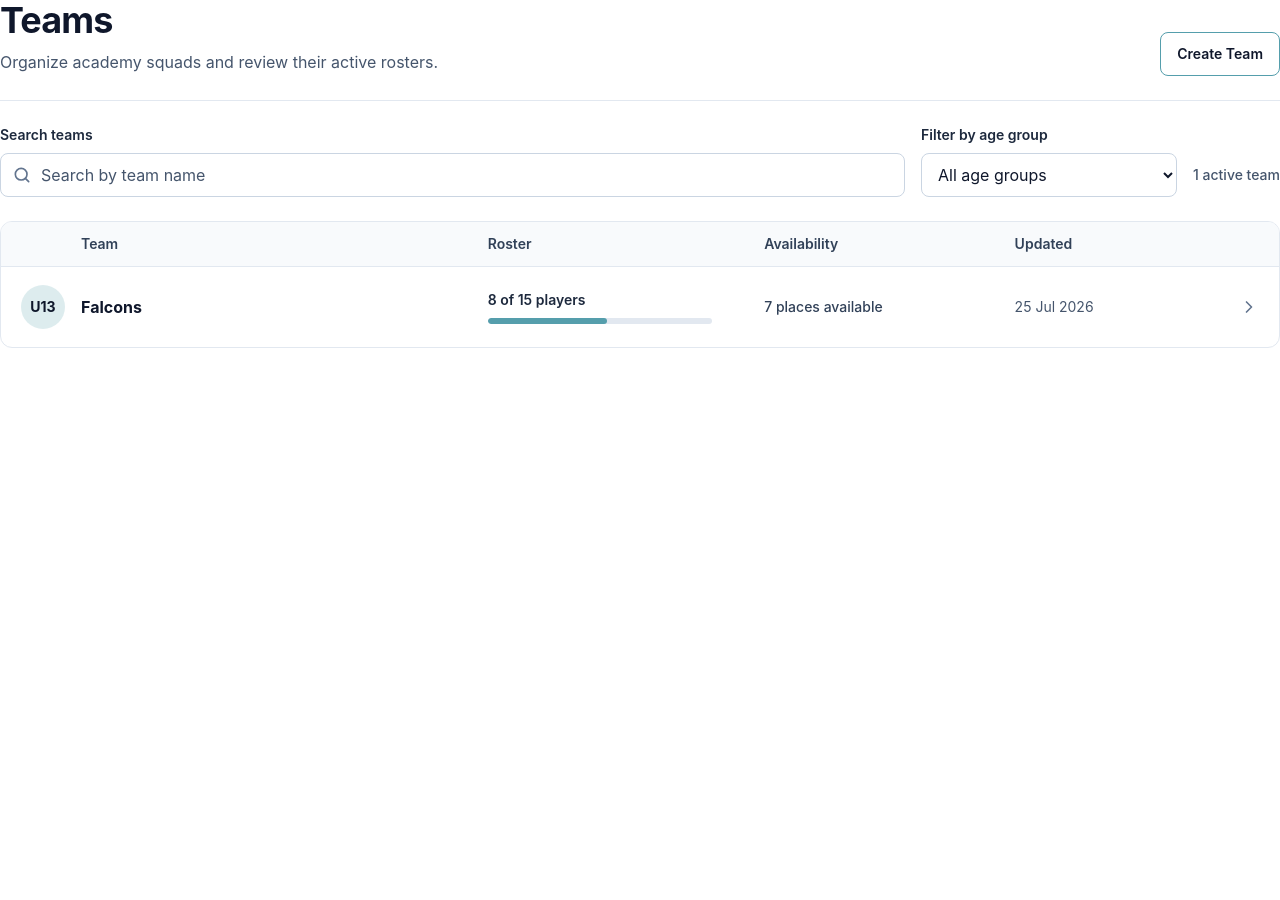
it: TeamsPage › replaces team details with a prefilled edit form
Click the button with aria-label "View Falcons".
click(43, 307)  # box [1,267,1279,347]
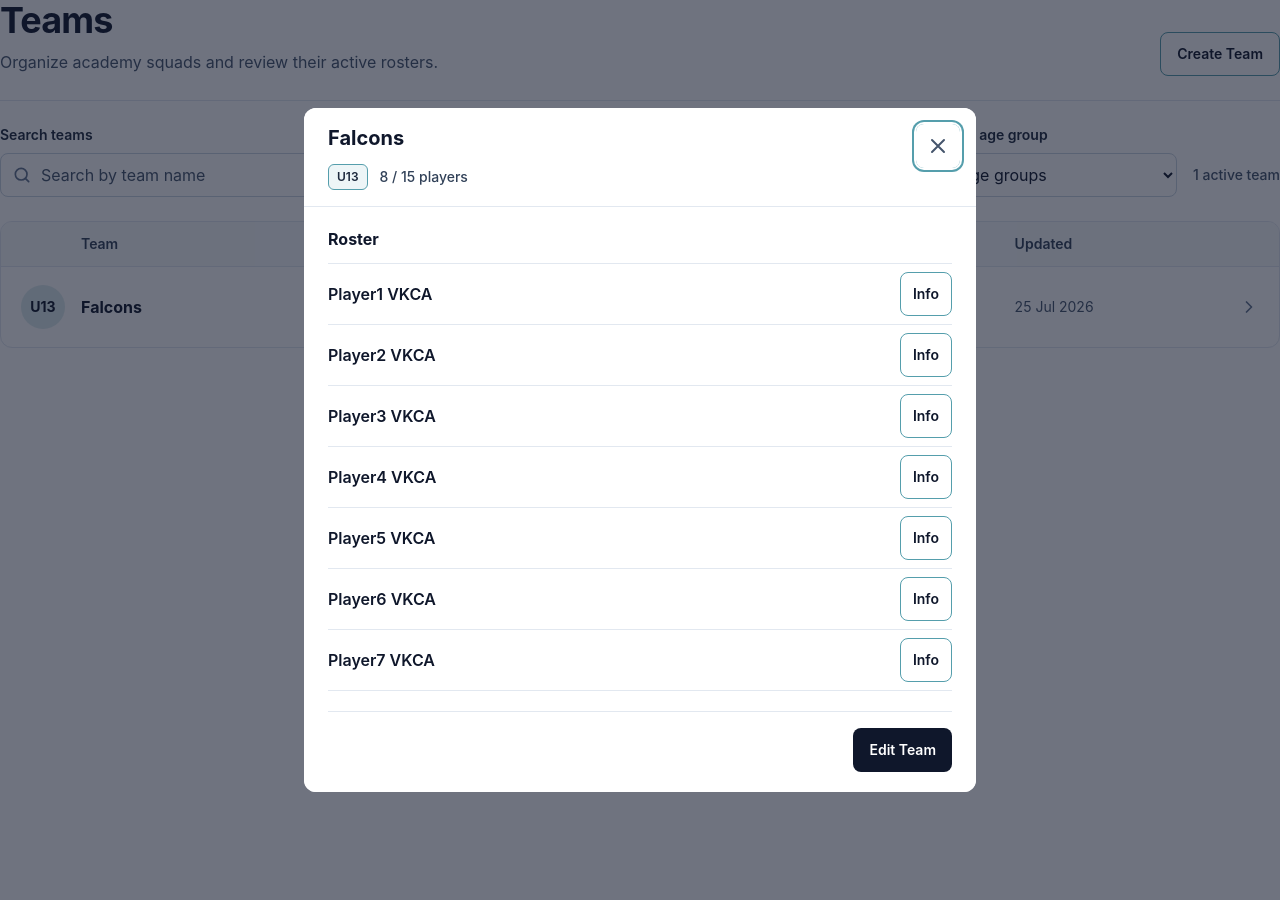
Click the button "Edit Team".
click(903, 750)  # box [853,728,952,772]
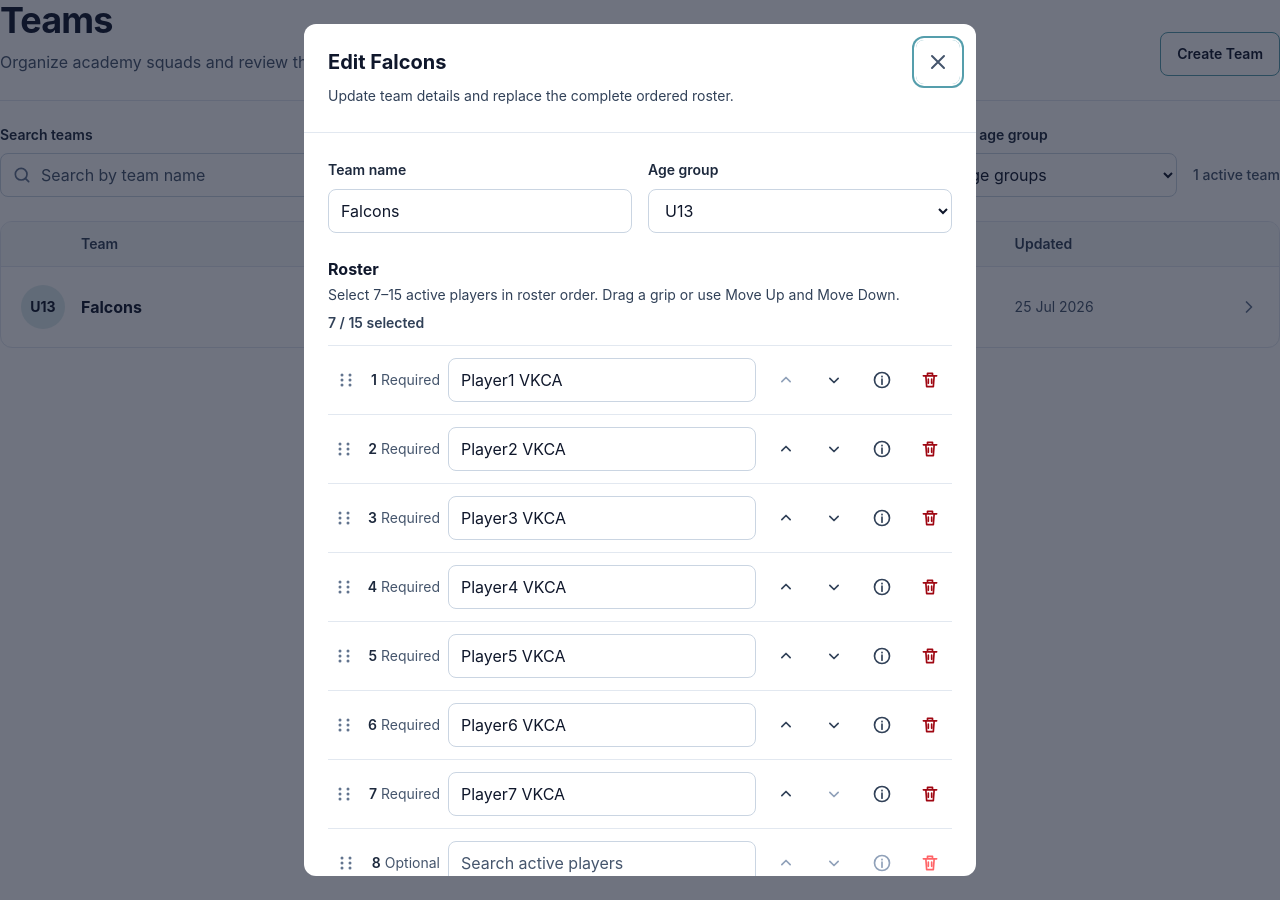
Expected: the dialog "Edit Falcons" is shown, [304,24,976,876]
Expected: the field labelled "Team name" holds "Falcons", [328,189,632,233]
